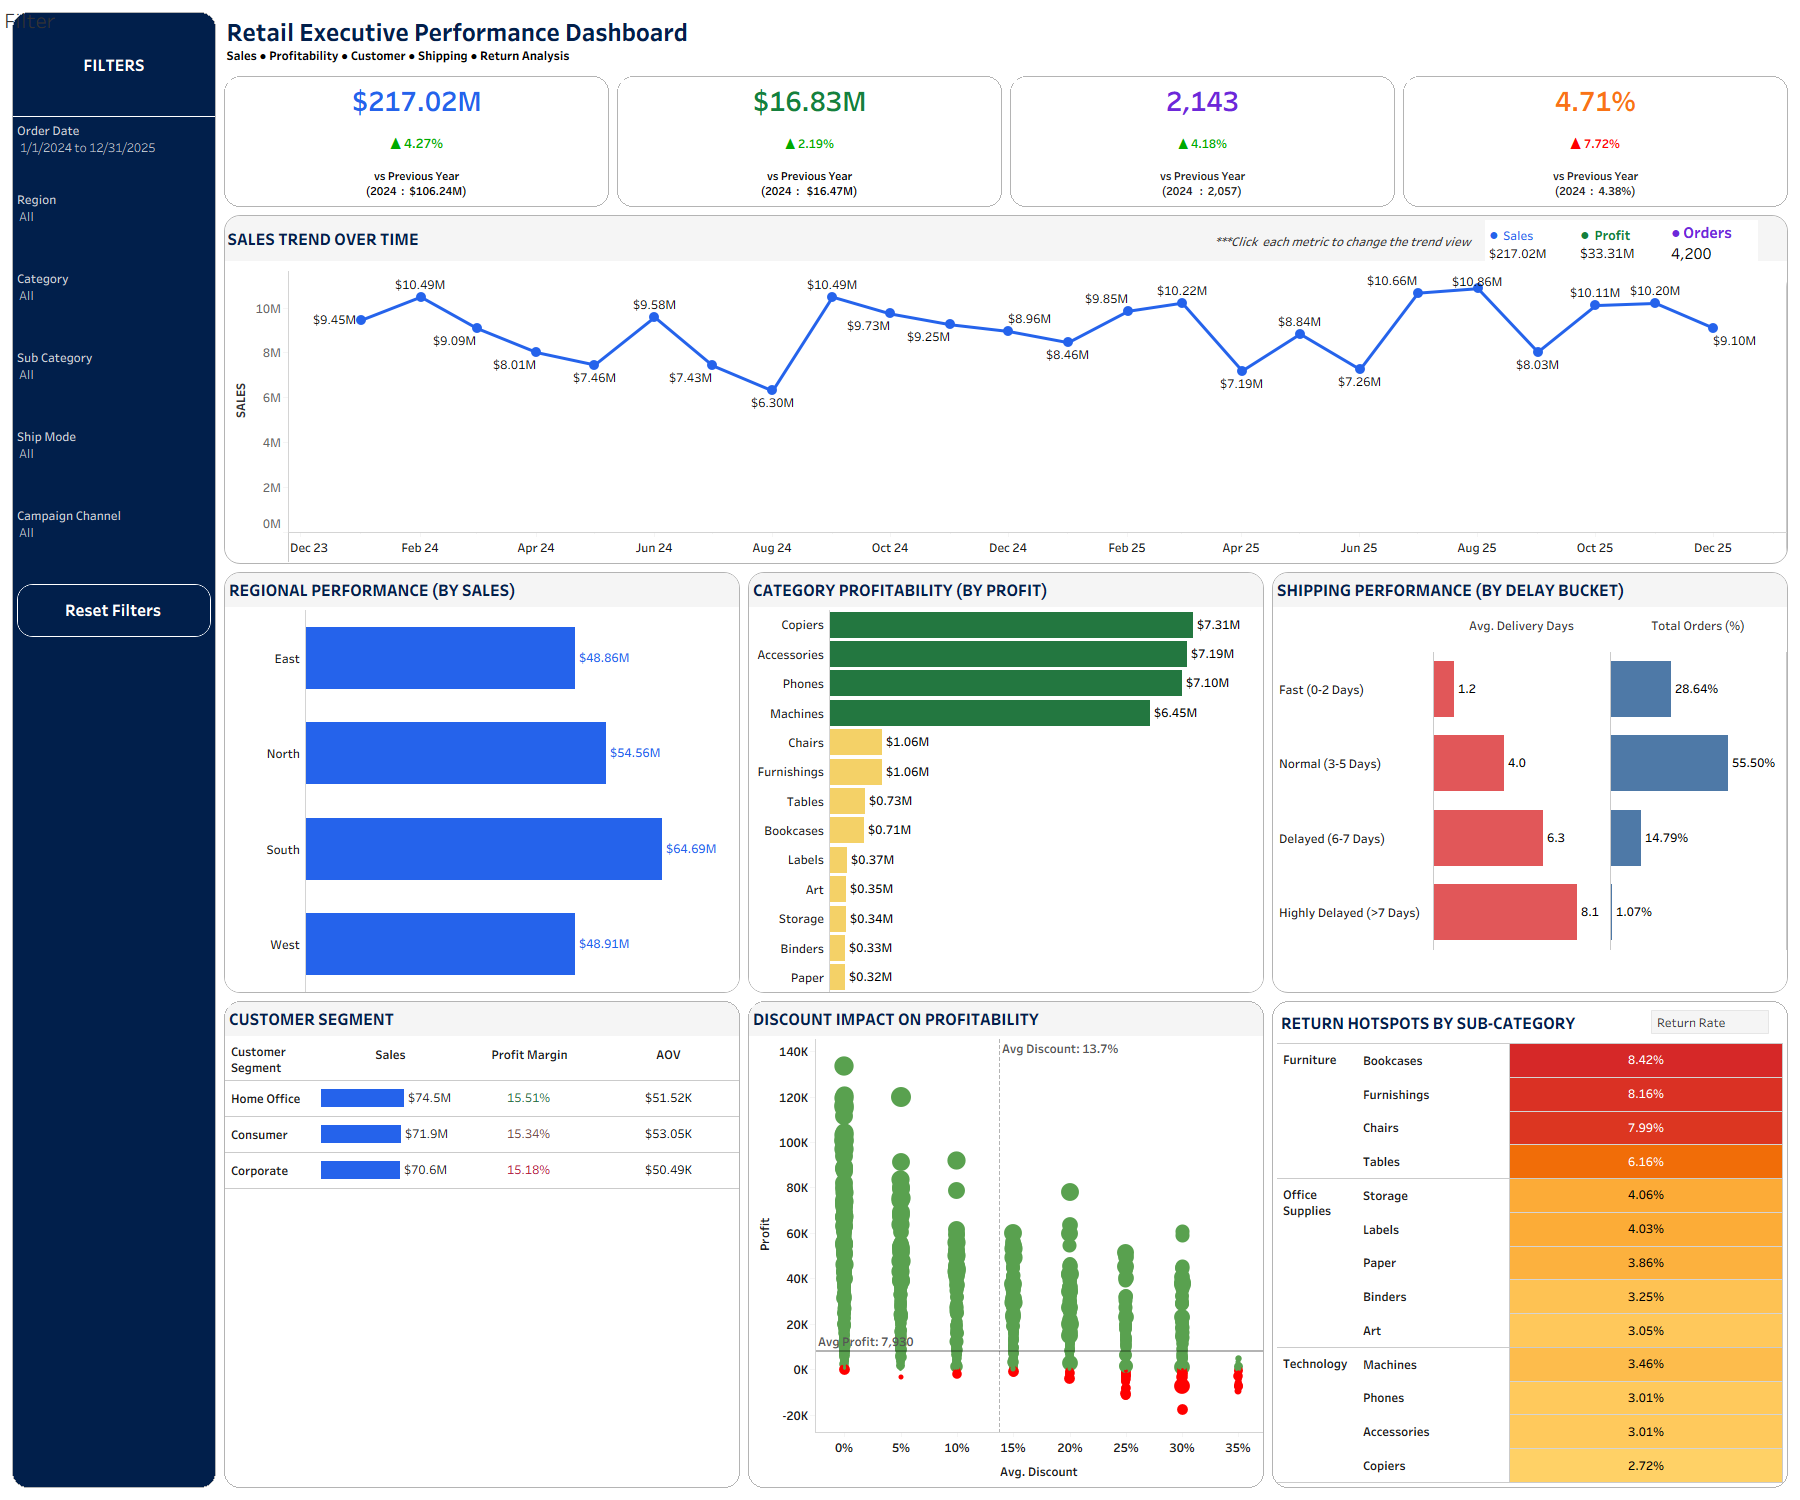

What the dashboard file says about the page in this screenshot:
{"tool":"tableau","page":{"name":"Retail Executive Performance Dashboard","canvas":[1800,1500],"ordinal":0},"visuals":[{"type":"worksheet","title":"Filter","mark":"Automatic","box":[0,0,1,1]},{"type":"text","box":[219.6,8,1572.4,64]},{"type":"text","box":[13,13,201.6,103]},{"type":"worksheet","title":"KPI - Sales","mark":"Square","box":[220,72,393,139]},{"type":"worksheet","title":"KPI - Profit","mark":"Square","box":[613,72,393,139]},{"type":"worksheet","title":"KPI - Orders","mark":"Square","box":[1006,72,393,139]},{"type":"worksheet","title":"KPI - Return Rate","mark":"Square","box":[1399,72,393,139]},{"type":"blank","box":[13,116,201.6,1]},{"type":"filter","title":"Filter","param":"[federated.1k62u9d15if11v11mv8w31dpu8bw].[none:order_date:qk]","box":[13,117,201.6,69]},{"type":"filter","title":"Filter","param":"[federated.1k62u9d15if11v11mv8w31dpu8bw].[none:region:nk]","box":[13,186,202,79]},{"type":"text","box":[224.6,216,1562.4,45]},{"type":"worksheet","title":"Sales","mark":"Automatic","box":[1485,220,91,46]},{"type":"worksheet","title":"Profit","mark":"Automatic","box":[1576,220,91,46]},{"type":"worksheet","title":"Orders","mark":"Automatic","box":[1667,220,90,46]},{"type":"text","box":[1212,226,263,30]},{"type":"worksheet","title":"Trend Over time Orders","mark":"Automatic","rows":["Calculation_0691335389483042","Calculation_0691335389483042"],"cols":["order_date"],"box":[224.6,261,1562.4,302]},{"type":"worksheet","title":"Trend Over time","mark":"Automatic","rows":["Calculation_0691335389483042","Calculation_0691335389483042"],"cols":["order_date"],"box":[224.6,261,1562.4,302]},{"type":"filter","title":"Filter","param":"[federated.1k62u9d15if11v11mv8w31dpu8bw].[none:category:nk]","box":[13,265,202,79]},{"type":"filter","title":"Filter","param":"[federated.1k62u9d15if11v11mv8w31dpu8bw].[none:sub_category:nk]","box":[13,344,202,79]},{"type":"filter","title":"Filter","param":"[federated.1k62u9d15if11v11mv8w31dpu8bw].[none:ship_mode:nk]","box":[13,423,202,79]},{"type":"filter","title":"Filter","param":"[federated.1k62u9d15if11v11mv8w31dpu8bw].[none:campaign_channel:nk]","box":[13,502,202,78]},{"type":"worksheet","title":"Regional Performance","mark":"Bar","rows":["region"],"cols":["sales"],"box":[220,568,524,429]},{"type":"worksheet","title":"Category Profitability","mark":"Bar","rows":["sub_category"],"cols":["profit"],"box":[744,568,524,429]},{"type":"worksheet","title":"Shipping Delay","mark":"Automatic","rows":["Calculation_0691334957989892"],"cols":["delivery_days","Calculation_0691335421763621","Calculation_0691334958067717","Calculation_0691335421763621"],"box":[1268,568,524,429]},{"type":"worksheet","title":"RESET","mark":"Automatic","box":[13,580,201.6,61]},{"type":"blank","box":[13,641,201.6,846]},{"type":"worksheet","title":"Customer Segment","mark":"Automatic","rows":["customer_segment"],"cols":["sales","Calculation_0691335410819108","Calculation_0691335410819108","Calculation_0691335410819108","Calculation_0691335410819108","Calculation_0691335410819108"],"box":[219.6,997,524.1,495]},{"type":"worksheet","title":"DISCOUNT vs PROFIT - Cust","mark":"Circle","rows":["profit"],"cols":["discount"],"box":[744,997,524,495]},{"type":"worksheet","title":"Return Analysis Orders","mark":"Square","rows":["category","sub_category"],"box":[1273,1002,514,484.9]},{"type":"worksheet","title":"Return Analysis Orders  $","mark":"Square","rows":["category","sub_category"],"box":[1273,1002,514,484.9]},{"type":"worksheet","title":"Return Analysis %","mark":"Square","rows":["category","sub_category"],"box":[1273,1002,514,484.9]},{"type":"parameter","param":"[Parameters].[Parameter 3]","box":[1651,1010,118,24]}]}

Visuals, with their boxes in screenshot pixels (x1, y1, x2, y2), scaled from the page's 1800x1500 canvas onto the 1800x1500 screenshot:
"Filter" worksheet: {"x1": 0, "y1": 0, "x2": 1, "y2": 1}
text: {"x1": 220, "y1": 8, "x2": 1792, "y2": 72}
text: {"x1": 13, "y1": 13, "x2": 215, "y2": 116}
"KPI - Sales" worksheet (Square marks): {"x1": 220, "y1": 72, "x2": 613, "y2": 211}
"KPI - Profit" worksheet (Square marks): {"x1": 613, "y1": 72, "x2": 1006, "y2": 211}
"KPI - Orders" worksheet (Square marks): {"x1": 1006, "y1": 72, "x2": 1399, "y2": 211}
"KPI - Return Rate" worksheet (Square marks): {"x1": 1399, "y1": 72, "x2": 1792, "y2": 211}
blank: {"x1": 13, "y1": 116, "x2": 215, "y2": 117}
"Filter" filter: {"x1": 13, "y1": 117, "x2": 215, "y2": 186}
"Filter" filter: {"x1": 13, "y1": 186, "x2": 215, "y2": 265}
text: {"x1": 225, "y1": 216, "x2": 1787, "y2": 261}
"Sales" worksheet: {"x1": 1485, "y1": 220, "x2": 1576, "y2": 266}
"Profit" worksheet: {"x1": 1576, "y1": 220, "x2": 1667, "y2": 266}
"Orders" worksheet: {"x1": 1667, "y1": 220, "x2": 1757, "y2": 266}
text: {"x1": 1212, "y1": 226, "x2": 1475, "y2": 256}
"Trend Over time Orders" worksheet: {"x1": 225, "y1": 261, "x2": 1787, "y2": 563}
"Trend Over time" worksheet: {"x1": 225, "y1": 261, "x2": 1787, "y2": 563}
"Filter" filter: {"x1": 13, "y1": 265, "x2": 215, "y2": 344}
"Filter" filter: {"x1": 13, "y1": 344, "x2": 215, "y2": 423}
"Filter" filter: {"x1": 13, "y1": 423, "x2": 215, "y2": 502}
"Filter" filter: {"x1": 13, "y1": 502, "x2": 215, "y2": 580}
"Regional Performance" worksheet (Bar marks): {"x1": 220, "y1": 568, "x2": 744, "y2": 997}
"Category Profitability" worksheet (Bar marks): {"x1": 744, "y1": 568, "x2": 1268, "y2": 997}
"Shipping Delay" worksheet: {"x1": 1268, "y1": 568, "x2": 1792, "y2": 997}
"RESET" worksheet: {"x1": 13, "y1": 580, "x2": 215, "y2": 641}
blank: {"x1": 13, "y1": 641, "x2": 215, "y2": 1487}
"Customer Segment" worksheet: {"x1": 220, "y1": 997, "x2": 744, "y2": 1492}
"DISCOUNT vs PROFIT - Cust" worksheet (Circle marks): {"x1": 744, "y1": 997, "x2": 1268, "y2": 1492}
"Return Analysis Orders" worksheet (Square marks): {"x1": 1273, "y1": 1002, "x2": 1787, "y2": 1487}
"Return Analysis Orders  $" worksheet (Square marks): {"x1": 1273, "y1": 1002, "x2": 1787, "y2": 1487}
"Return Analysis %" worksheet (Square marks): {"x1": 1273, "y1": 1002, "x2": 1787, "y2": 1487}
parameter: {"x1": 1651, "y1": 1010, "x2": 1769, "y2": 1034}
